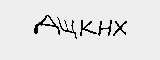Д: (34, 11, 57, 33)
К: (79, 19, 96, 35)
Н: (98, 19, 112, 37)
Х: (112, 18, 127, 39)
Щ: (59, 17, 74, 37)
